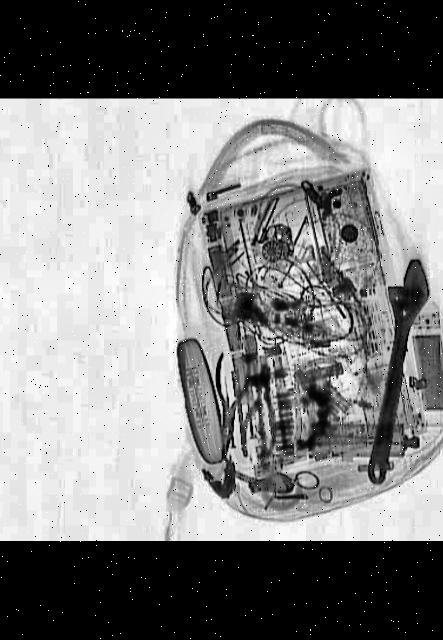Pliers: (202, 352, 252, 463), (234, 366, 282, 461)
Wrench: (351, 257, 434, 488)
